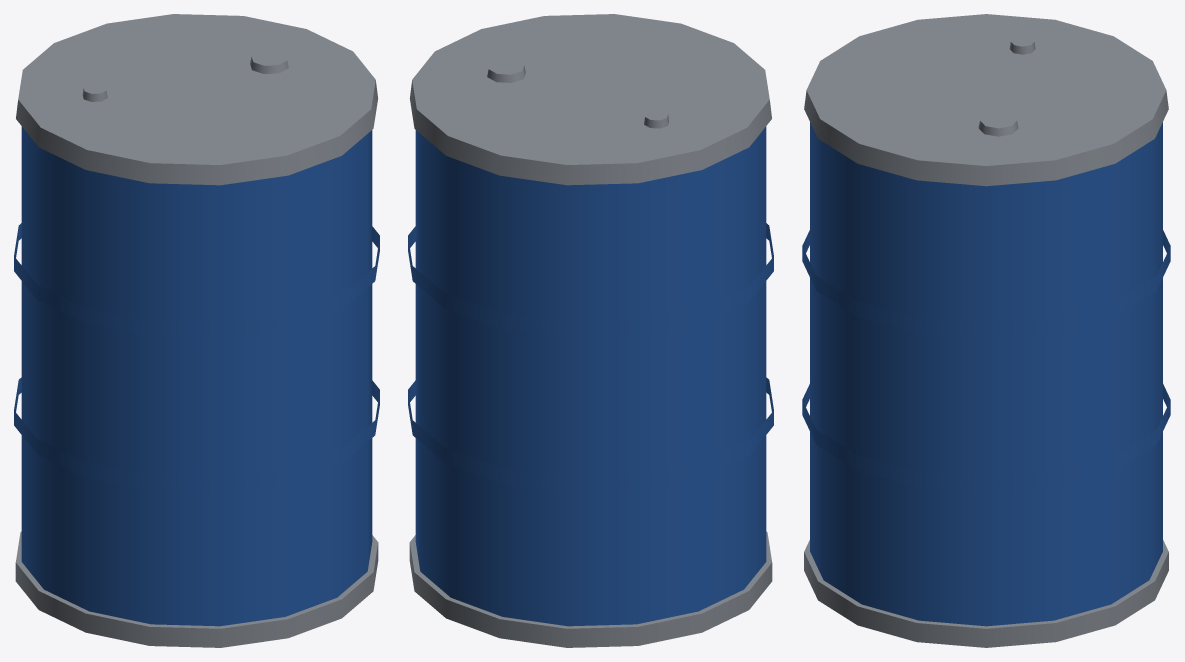
Rendered from barrel.glb.
3 renders of one model, left to right at view 1: azimuth 30°, elevation 25°; view 2: azimuth 150°, elevation 25°; view 3: azimuth 270°, elevation 25°, orthographic.
Parts seen in each view (by area): view 1: Barrel; view 2: Barrel; view 3: Barrel.
Boxes of the visible parts, x1=… form: Barrel: x1=14, y1=14, x2=379, y2=647; Barrel: x1=408, y1=14, x2=773, y2=647; Barrel: x1=802, y1=14, x2=1170, y2=647.
Bounding box in the file's own units: 0.611 × 0.894 × 0.611.
